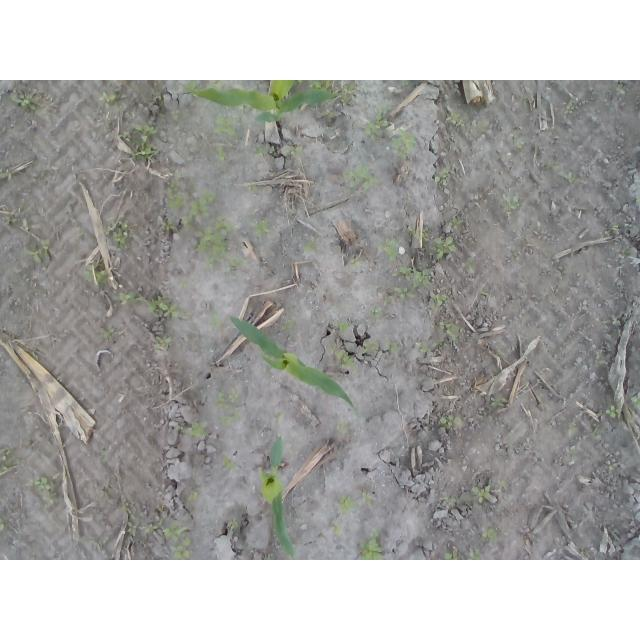Maize: (228, 310, 360, 416), (178, 80, 336, 125), (257, 436, 296, 561)
Weeds: (161, 174, 221, 231), (194, 216, 243, 272), (115, 124, 161, 161), (392, 264, 433, 300), (342, 164, 382, 195), (163, 522, 193, 560), (215, 385, 241, 426), (471, 478, 509, 506), (389, 127, 419, 162), (352, 529, 385, 560), (144, 296, 185, 320), (7, 85, 42, 113), (27, 475, 57, 507), (364, 109, 391, 143), (102, 215, 128, 249), (328, 340, 356, 368), (436, 319, 464, 342), (364, 338, 403, 354), (213, 114, 241, 136), (81, 268, 107, 290), (108, 291, 146, 306), (415, 335, 446, 353), (377, 238, 399, 262), (28, 237, 48, 263), (434, 236, 458, 257), (502, 191, 521, 217), (334, 83, 354, 106), (98, 92, 125, 109), (191, 416, 210, 440), (152, 335, 177, 353), (0, 446, 16, 474), (126, 512, 143, 536), (298, 80, 337, 90), (253, 217, 273, 235), (185, 487, 204, 505), (439, 414, 465, 427), (434, 167, 451, 186), (480, 527, 497, 546), (145, 518, 164, 535), (223, 453, 240, 472), (447, 112, 465, 129), (337, 494, 353, 513), (361, 490, 375, 511), (628, 387, 640, 410), (208, 312, 224, 329), (303, 239, 320, 255), (333, 319, 351, 334), (441, 495, 459, 510), (606, 403, 623, 418), (215, 141, 227, 162), (331, 521, 346, 537), (288, 143, 305, 157), (443, 548, 461, 561), (593, 351, 605, 369), (564, 95, 576, 113), (370, 303, 383, 319), (466, 548, 483, 560), (280, 318, 297, 330), (431, 294, 449, 305), (543, 161, 561, 172), (229, 512, 240, 530), (564, 171, 577, 186), (102, 325, 115, 340), (567, 446, 577, 465), (448, 219, 465, 230), (208, 80, 225, 90), (606, 460, 619, 473), (256, 144, 269, 157), (0, 167, 12, 181), (614, 83, 626, 97), (607, 222, 621, 234), (176, 423, 191, 434), (493, 394, 505, 407), (464, 257, 475, 271), (318, 110, 334, 119), (156, 111, 168, 123), (479, 289, 491, 300), (170, 108, 181, 120), (247, 181, 258, 192), (407, 224, 417, 236), (567, 422, 577, 434), (350, 259, 361, 269), (239, 104, 251, 113), (421, 228, 429, 241), (0, 516, 8, 529), (383, 295, 393, 305), (179, 279, 189, 289), (5, 216, 16, 225), (190, 80, 200, 89), (275, 411, 286, 417), (632, 196, 640, 204), (401, 80, 411, 86)
